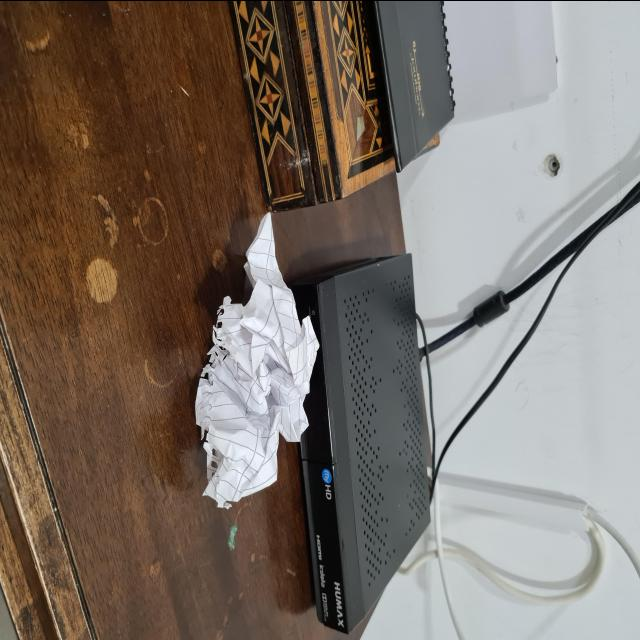kertas: (190, 218, 316, 510)
